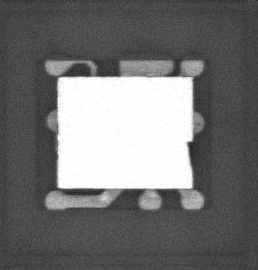DIE_BROKEN: (185, 139, 192, 173)
